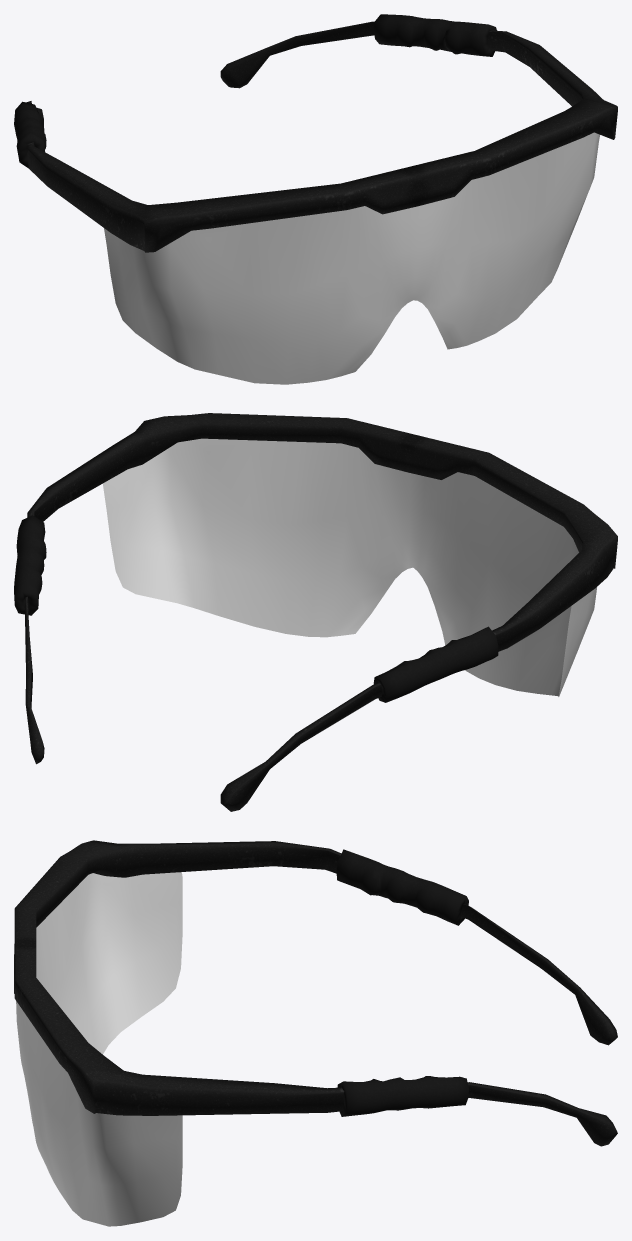
The model's file is Glasses.fbx.
3 renders of one model, top to bottom at view 1: azimuth 30°, elevation 25°; view 2: azimuth 150°, elevation 25°; view 3: azimuth 270°, elevation 25°, orthographic. The views are drawn at different scales.
Parts seen in each view (by area): view 1: Plane.004; view 2: Plane.004; view 3: Plane.004.
Part boxes in pixels (box(x1,y1,x2,y2)): Plane.004: box(14, 14, 617, 384); Plane.004: box(14, 413, 617, 811); Plane.004: box(14, 840, 617, 1226).
Bounding box in the file's own units: 195 × 77.38 × 198.
3 materials, 2 textured.
